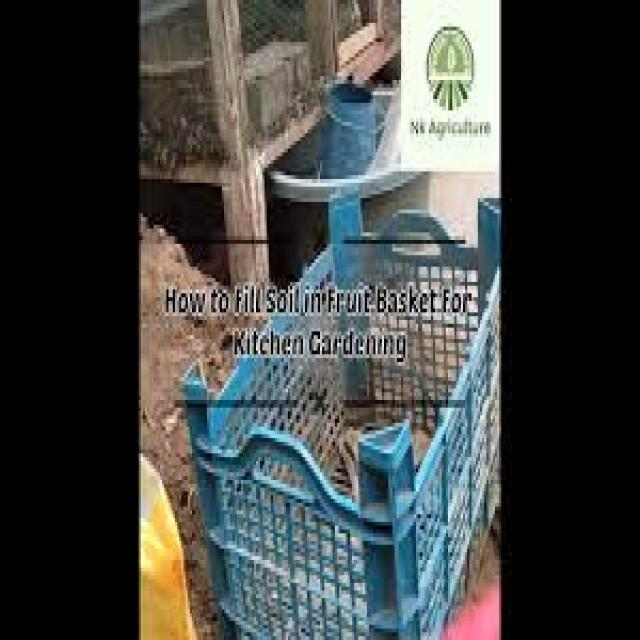basket: (162, 87, 501, 638)
